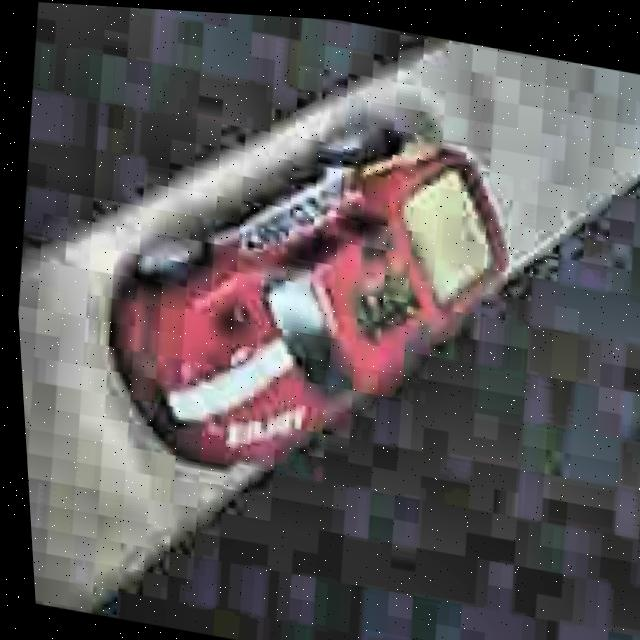car: (71, 70, 542, 526)
